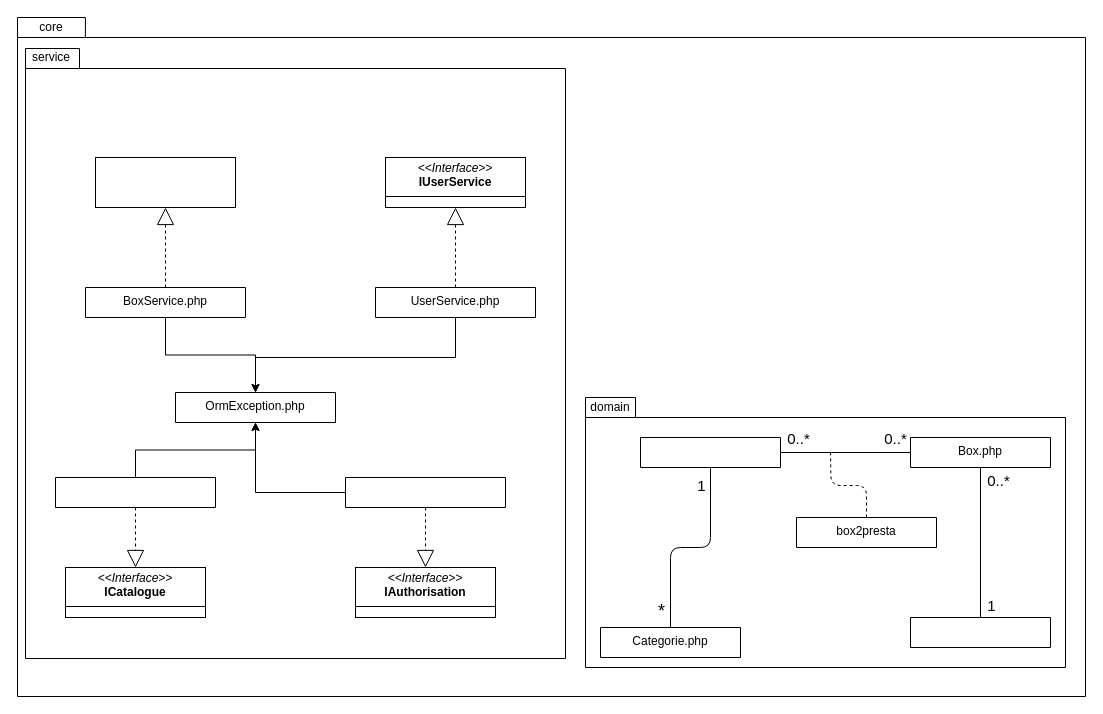
Image size: 1103x714. Some labels were removed from this diagram. Here are the shapes that lost their labels. From the top down, the centre of each, then its label:
the point at 165,182: <<Interface>> IBoxService
the point at 710,452: Prestation.php
the point at 135,492: Catalogue.php
the point at 425,492: Authorisation.php
the point at 980,632: User.php
